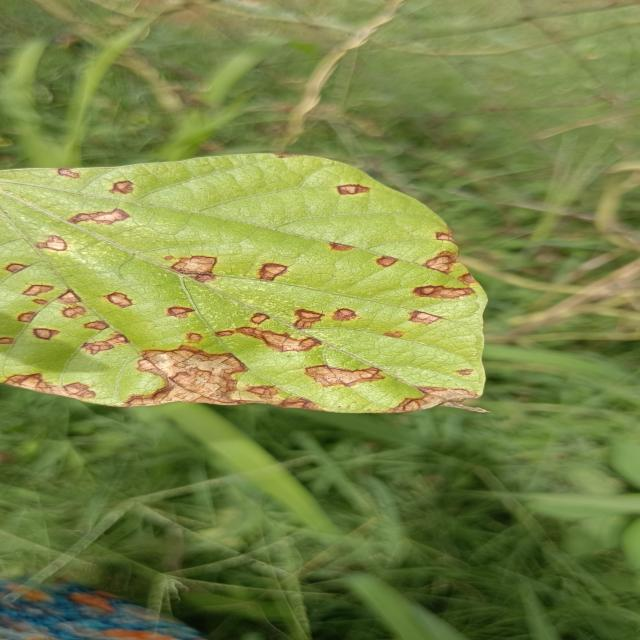Dolicos bean_cercospora leaf spot: (0, 156, 493, 410)
